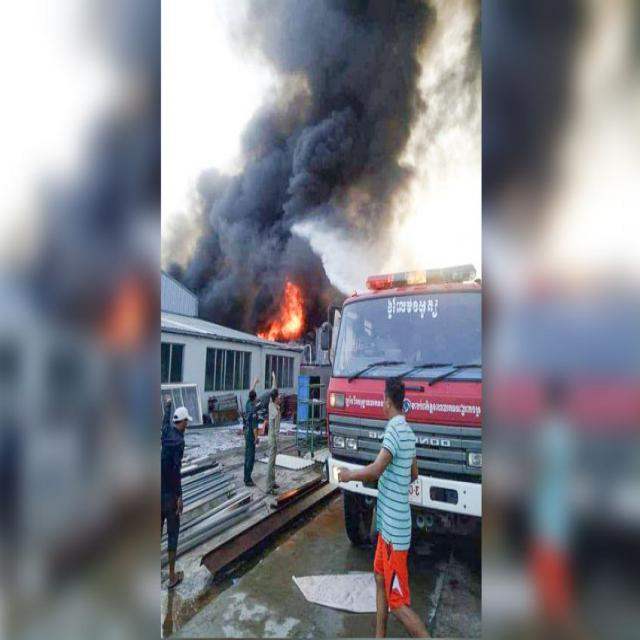fire: (254, 275, 309, 349)
